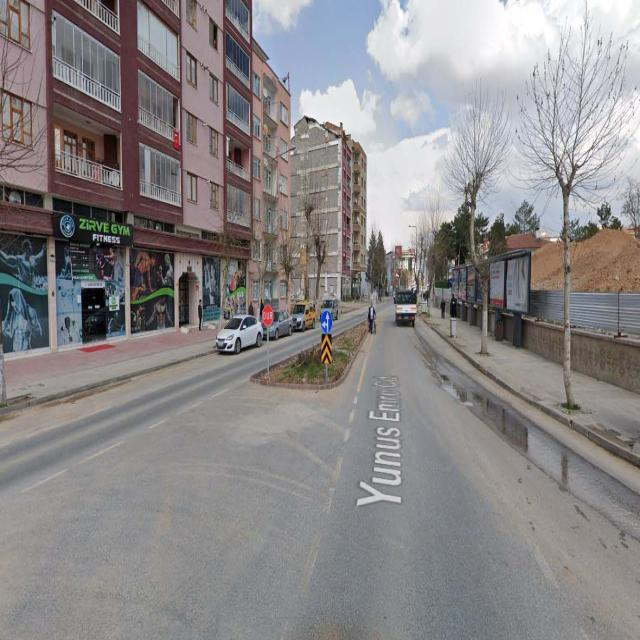dur: (263, 305, 273, 325)
ilerisol: (321, 311, 332, 333)
